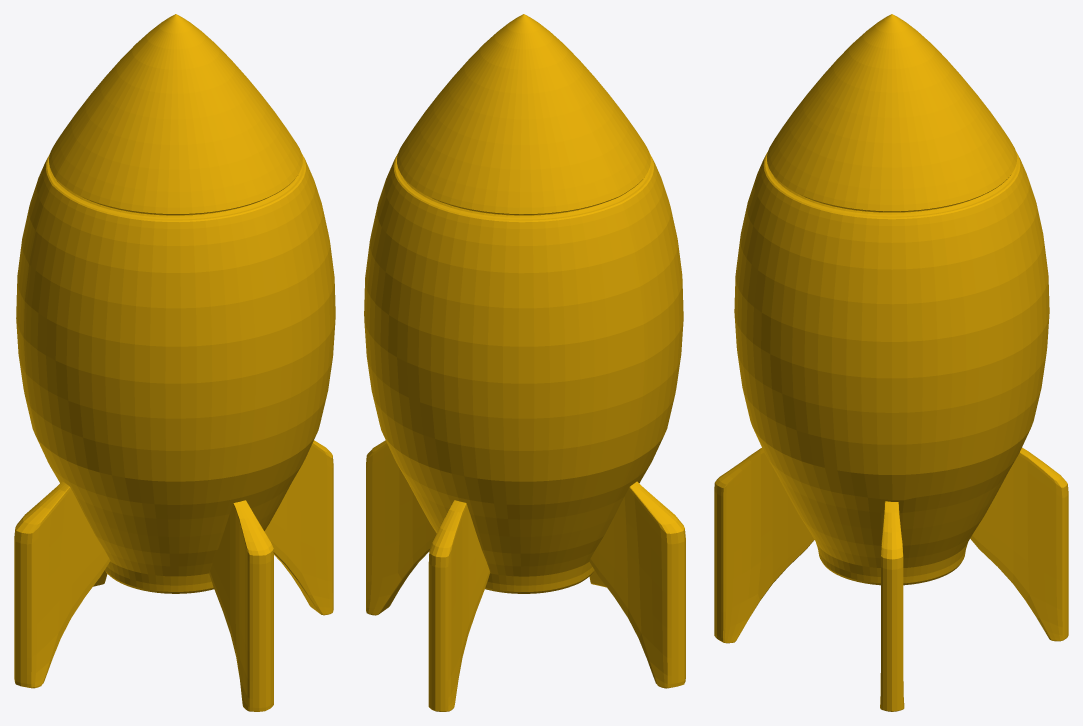
Rendered from Rocket.fbx.
3 renders of one model, left to right at view 1: azimuth 30°, elevation 25°; view 2: azimuth 150°, elevation 25°; view 3: azimuth 270°, elevation 25°, orthographic.
Visible parts, largest first — view 1: Cylinder; view 2: Cylinder; view 3: Cylinder.
Boxes of the visible parts, x1,y1,x2,y2 form: Cylinder: (14,14,335,711); Cylinder: (364,14,685,711); Cylinder: (714,14,1068,711).
Bounding box in the file's own units: 226 × 430 × 221.
